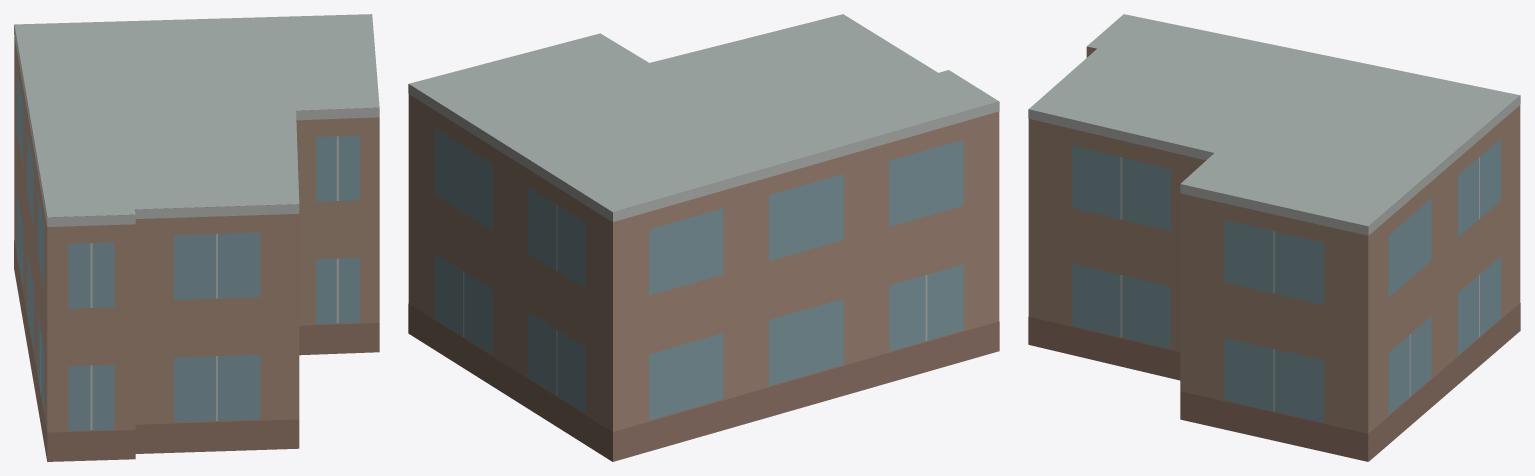
File: survey-upis-32805057.glb
3 renders of one model, left to right at view 1: azimuth 30°, elevation 25°; view 2: azimuth 150°, elevation 25°; view 3: azimuth 270°, elevation 25°, orthographic. The views are drawn at different scales.
Parts seen in each view (by area): view 1: survey-upis-32805057.tmp; view 2: survey-upis-32805057.tmp; view 3: survey-upis-32805057.tmp.
Boxes of the visible parts, left/top/right/bottom form: survey-upis-32805057.tmp: left=14, top=14, right=379, bottom=461; survey-upis-32805057.tmp: left=408, top=14, right=999, bottom=461; survey-upis-32805057.tmp: left=1028, top=14, right=1520, bottom=461.
Size of the model in its own units: 11.8 by 6.1 by 11.55.
